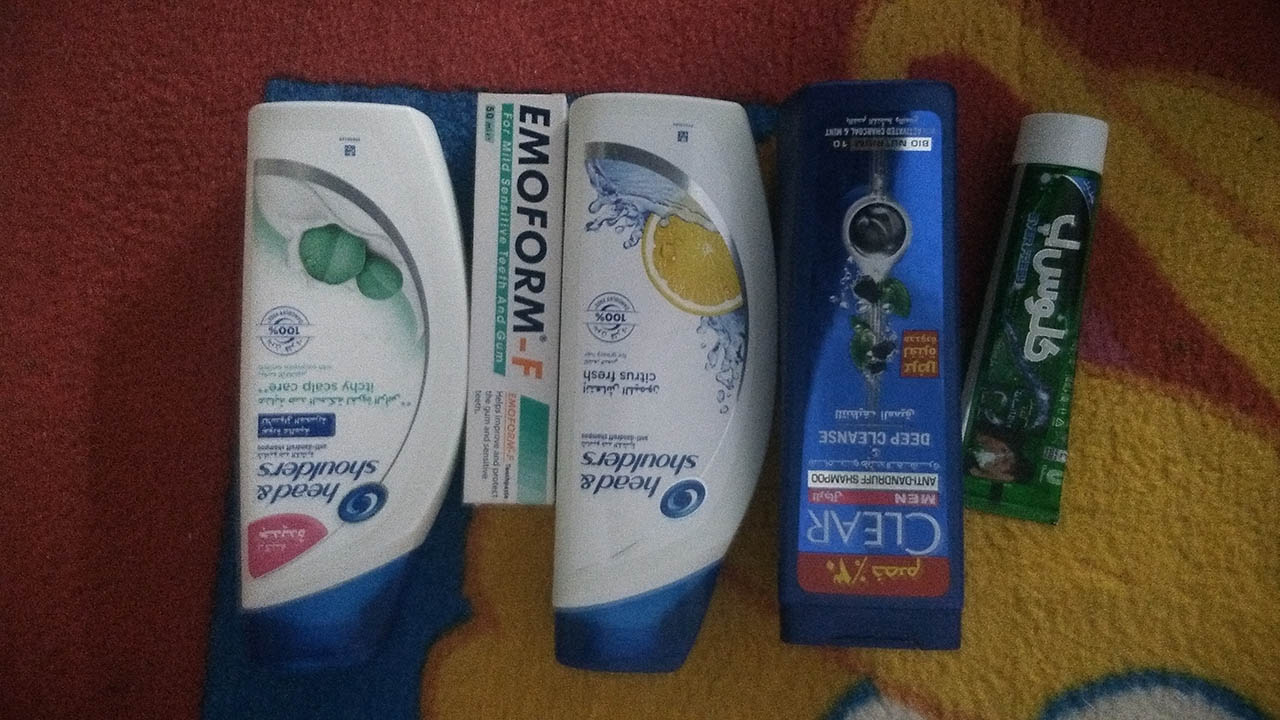Shampoo-Clear 4.7$: (769, 81, 977, 660)
Toothpaste-Closeup 3.04$: (962, 97, 1108, 556)
Toothpaste-F 1.5$: (467, 76, 570, 523)
shampoo-Lemon 3.5$: (563, 87, 758, 665)
shampoo-green 4.5$: (228, 89, 464, 676)
